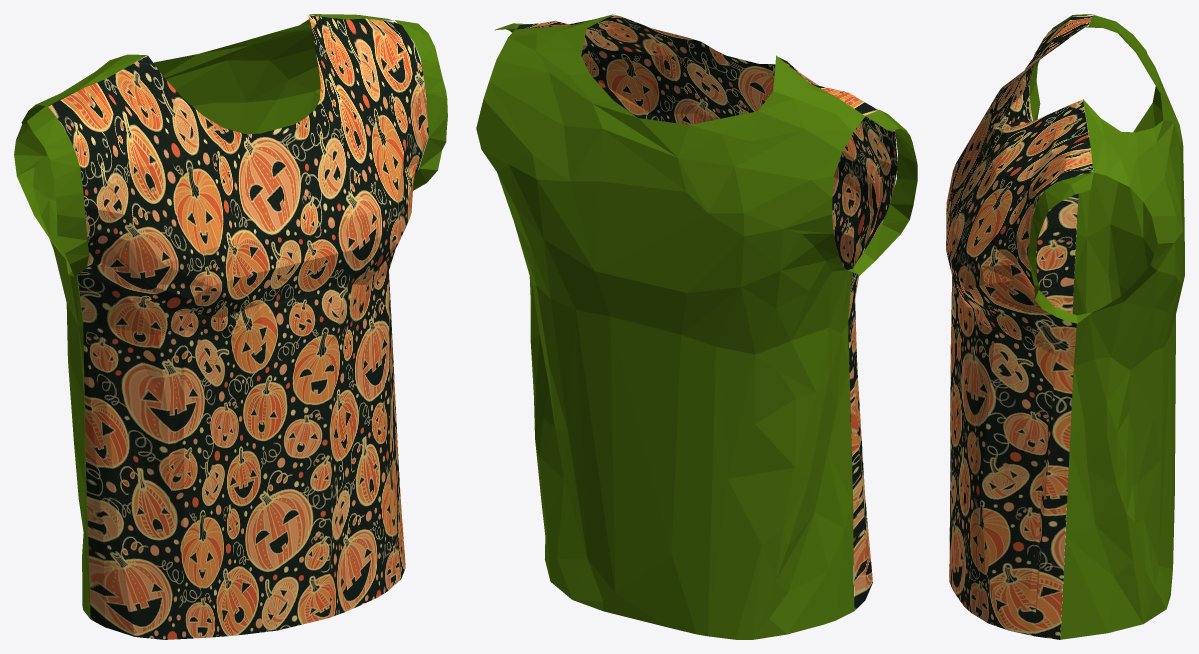
The picture shows the model from 3 angles, left to right: view 1: azimuth 30°, elevation 25°; view 2: azimuth 150°, elevation 25°; view 3: azimuth 270°, elevation 25°; orthographic projection. The views are drawn at different scales.
Parts seen in each view (by area): view 1: T_shirt; view 2: T_shirt; view 3: T_shirt.
Part boxes in pixels (x1,y1,x2,y2): T_shirt: (14,14,447,639); T_shirt: (476,14,917,639); T_shirt: (946,14,1184,639).
Bounding box in the file's own units: 0.2935 × 0.3892 × 0.1639.
Materials: 2 (1 with a texture image).
